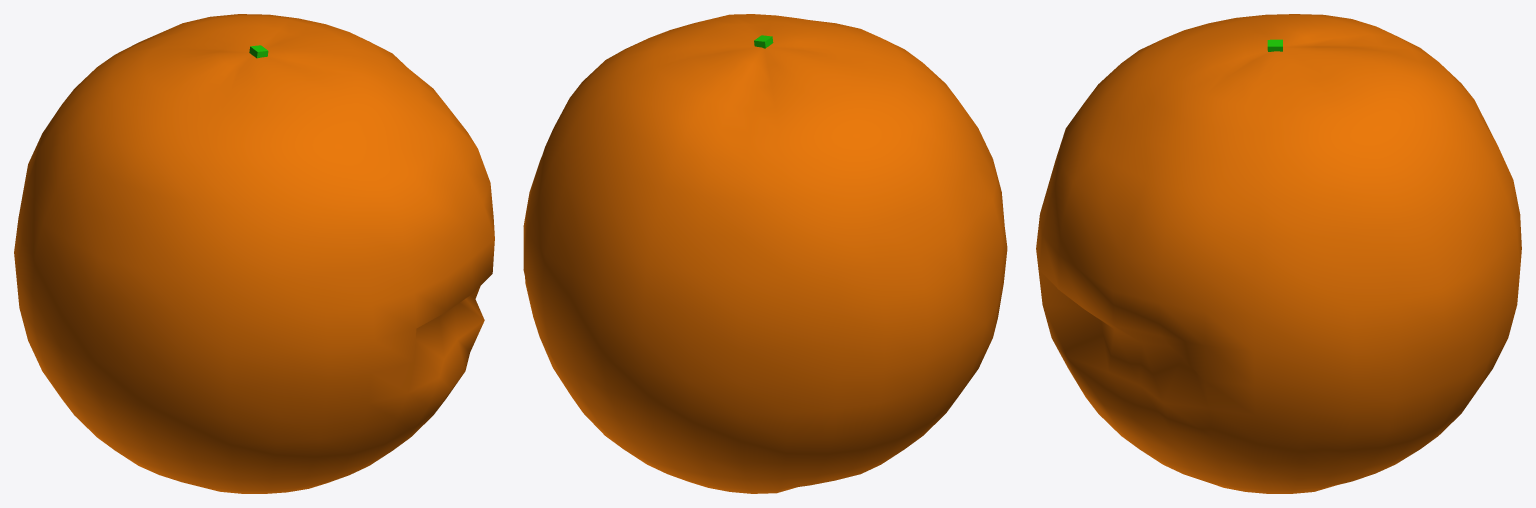
Rendered from Orange.glb.
The picture shows the model from 3 angles, left to right: view 1: azimuth 30°, elevation 25°; view 2: azimuth 150°, elevation 25°; view 3: azimuth 270°, elevation 25°; orthographic projection.
Parts seen in each view (by area): view 1: Sphere; view 2: Sphere; view 3: Sphere.
Boxes of the visible parts, <box> form: Sphere: <box>14,14,494,493</box>; Sphere: <box>523,14,1007,493</box>; Sphere: <box>1036,14,1521,493</box>.
Size of the model in its own units: 2.98 by 2.84 by 2.97.
